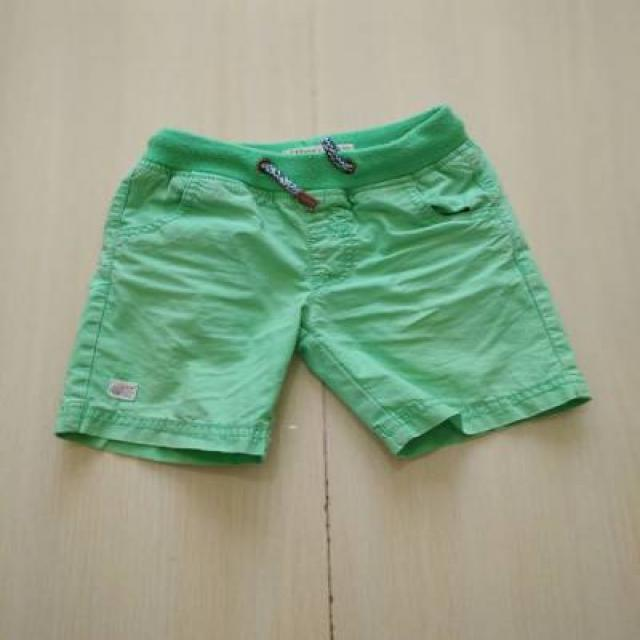Clothes -Biodegradable-: (49, 105, 598, 462)
